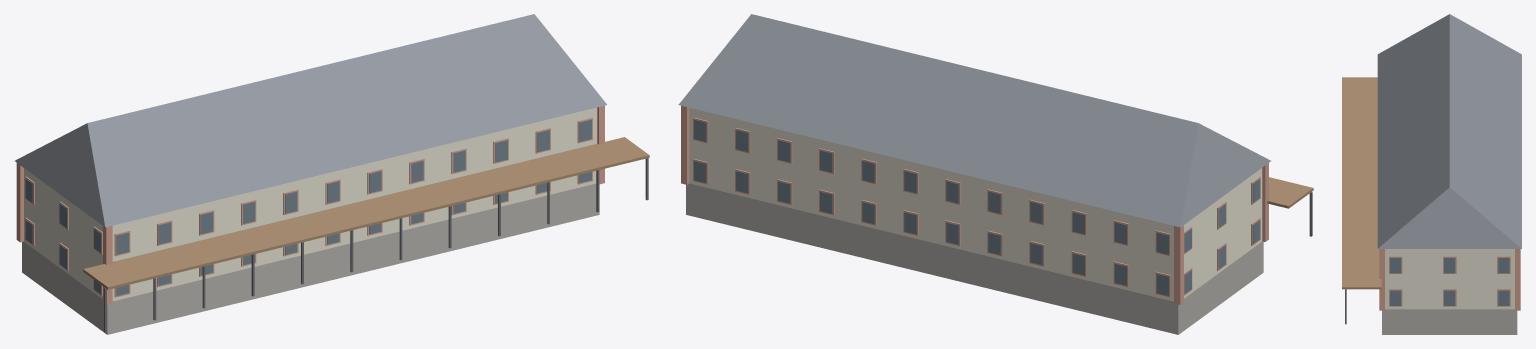
The model's file is muellheim-bahnhof.glb.
3 views of the same model, side by side, from view 1: azimuth 30°, elevation 25°; view 2: azimuth 150°, elevation 25°; view 3: azimuth 270°, elevation 25° (orthographic). The views are drawn at different scales.
Parts seen in each view (by area): view 1: building; view 2: building; view 3: building.
Boxes of the visible parts, x1=… form: building: x1=15, y1=14, x2=649, y2=334; building: x1=678, y1=14, x2=1313, y2=334; building: x1=1342, y1=14, x2=1521, y2=334.
Bounding box in the file's own units: 44.15 × 13.6 × 15.95.
